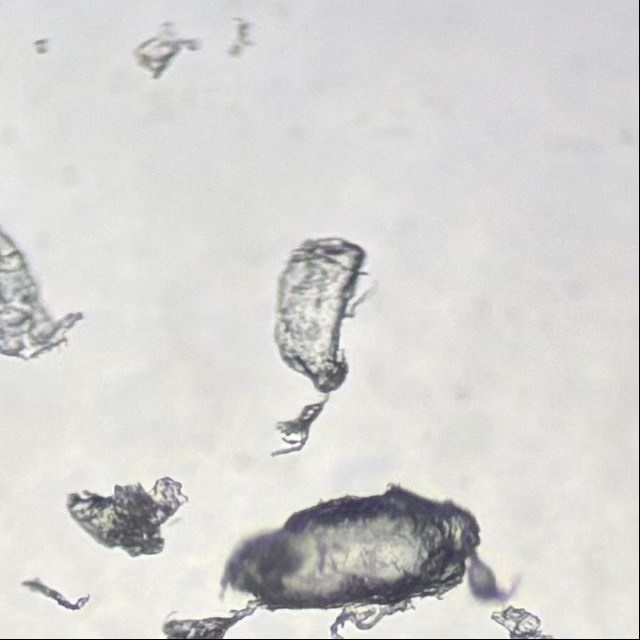microplastic: (164, 483, 551, 640), (259, 236, 371, 458), (1, 219, 86, 360), (65, 476, 187, 559), (18, 577, 95, 616)
